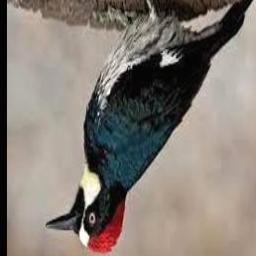Woodpecker: (45, 0, 256, 255)
